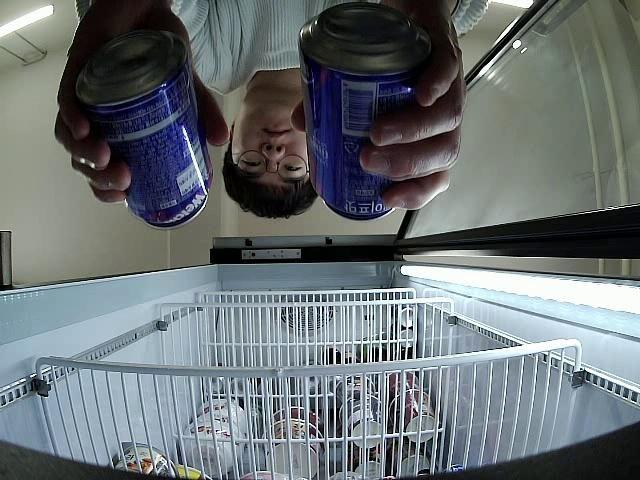14_welchsGrape: (299, 2, 430, 221), (75, 32, 214, 231)
